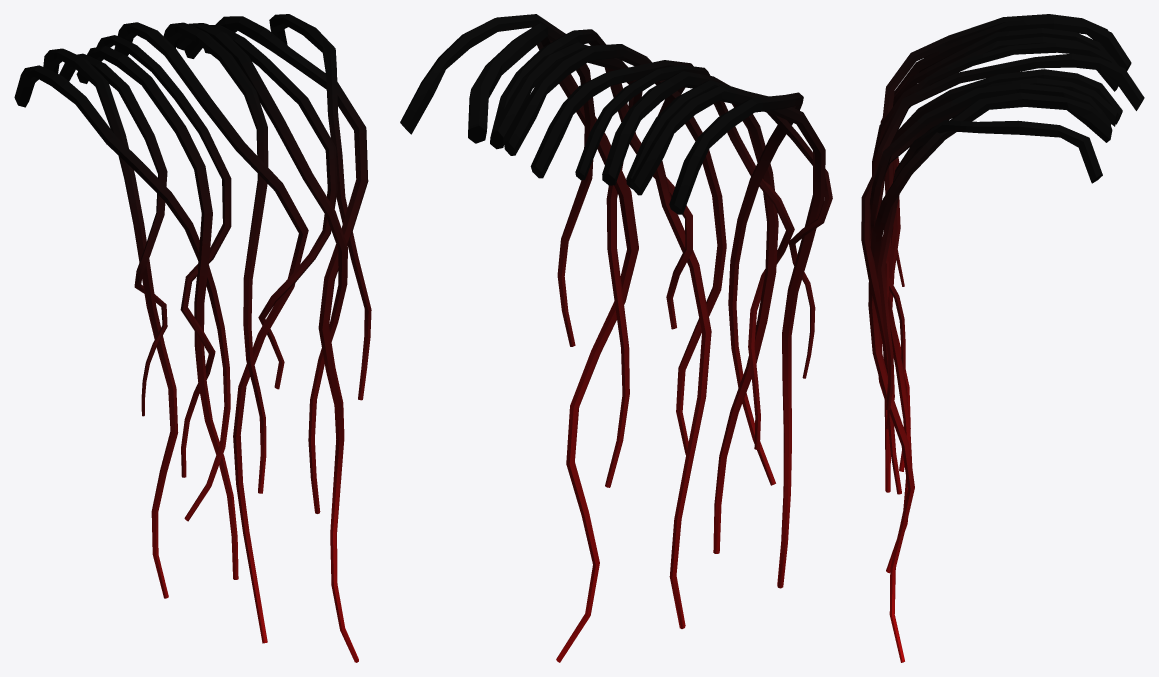
The model's file is SM_Env_Vines_02.fbx.
The picture shows the model from 3 angles, left to right: view 1: azimuth 30°, elevation 25°; view 2: azimuth 150°, elevation 25°; view 3: azimuth 270°, elevation 25°; orthographic projection. The views are drawn at different scales.
Parts seen in each view (by area): view 1: SM_Env_Vines_02_LOD0; view 2: SM_Env_Vines_02_LOD0; view 3: SM_Env_Vines_02_LOD0.
Part boxes in pixels (box(x1,y1,x2,y2)): SM_Env_Vines_02_LOD0: box(14, 14, 371, 662); SM_Env_Vines_02_LOD0: box(400, 14, 832, 662); SM_Env_Vines_02_LOD0: box(861, 14, 1144, 662).
Size of what is drawn, in the model's own units: 121 by 263 by 121.
